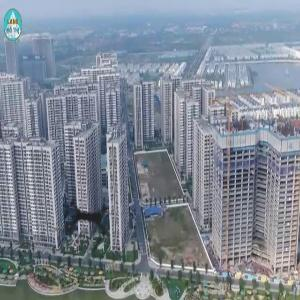drone: (38, 175, 134, 271)
